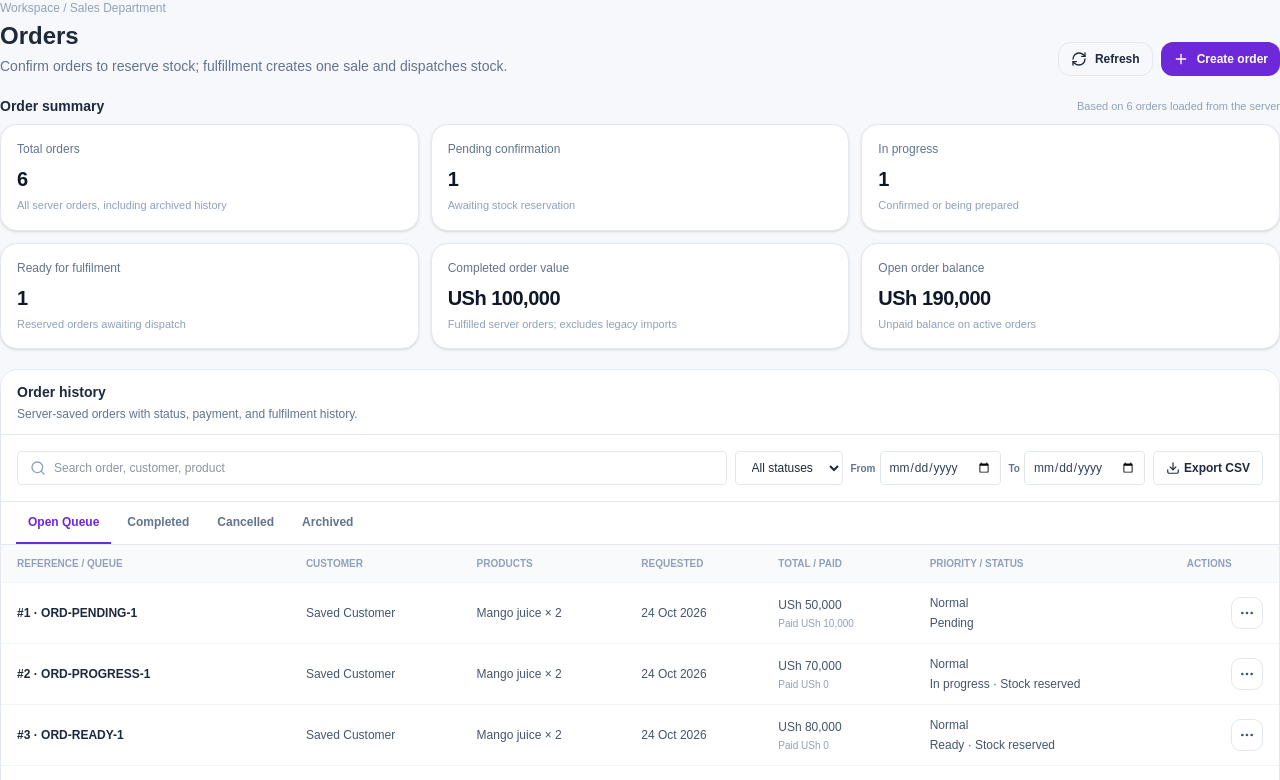
Test: orders-management › lets users clear and type a whole-number quantity in the order form
Later steps or results of the test are not shown.
Click the button "Create order" at (1220, 59), box [1161,42,1279,76]
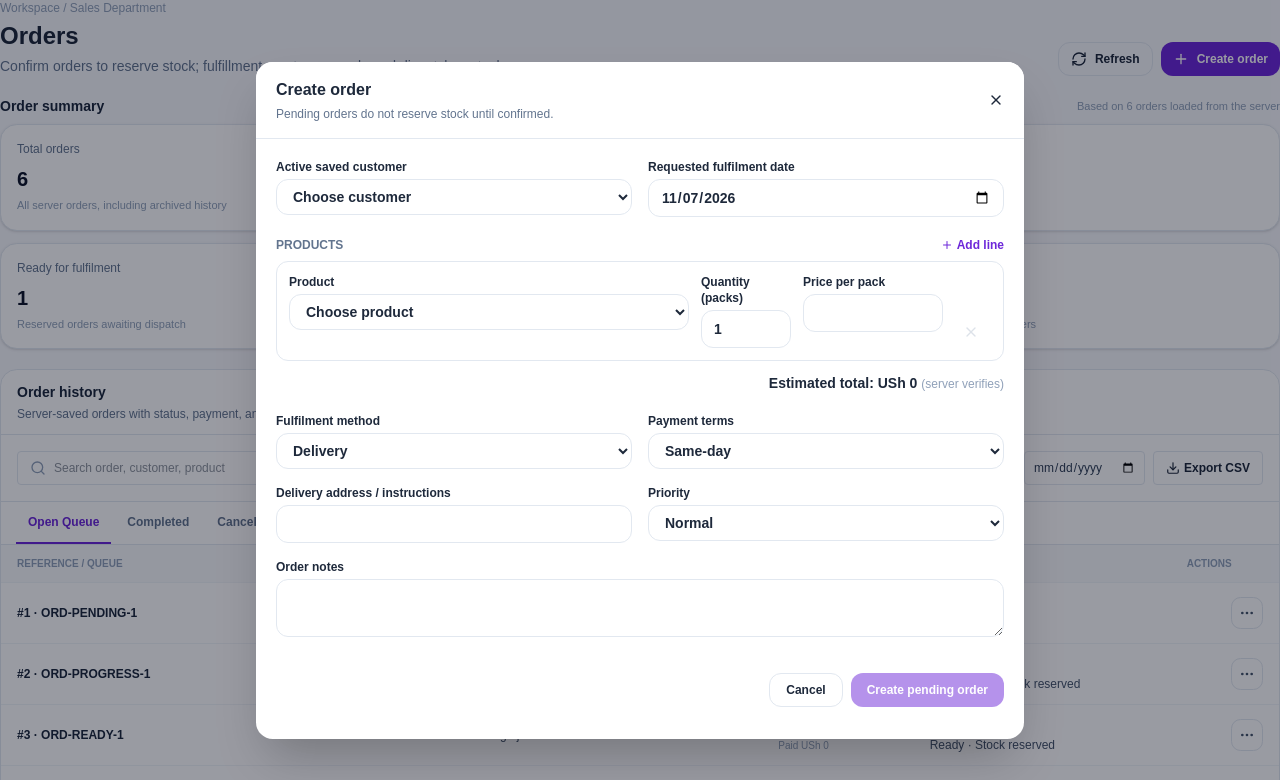
expect the number field labelled "Quantity (packs)" is shown: met, box [701,310,791,348]
